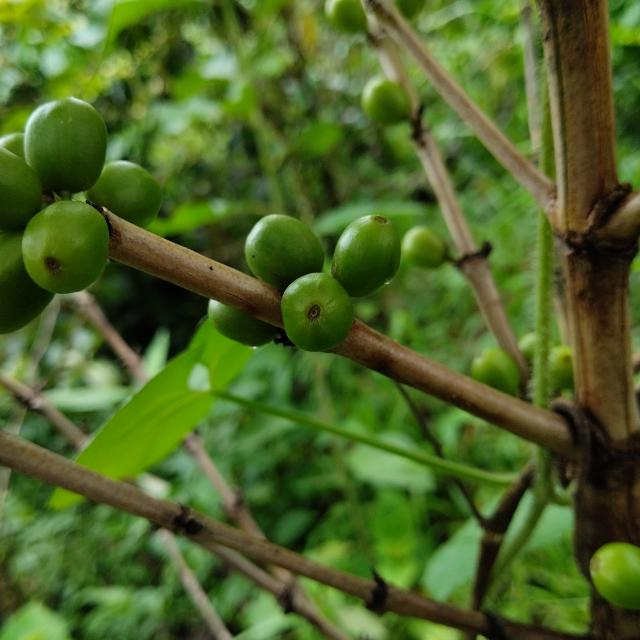green: (23, 96, 107, 193), (21, 200, 108, 293), (245, 214, 324, 290), (281, 272, 354, 352), (332, 215, 401, 297), (0, 231, 53, 334), (85, 160, 162, 228), (0, 146, 41, 231), (591, 543, 640, 611), (208, 300, 278, 347), (0, 132, 24, 160)
